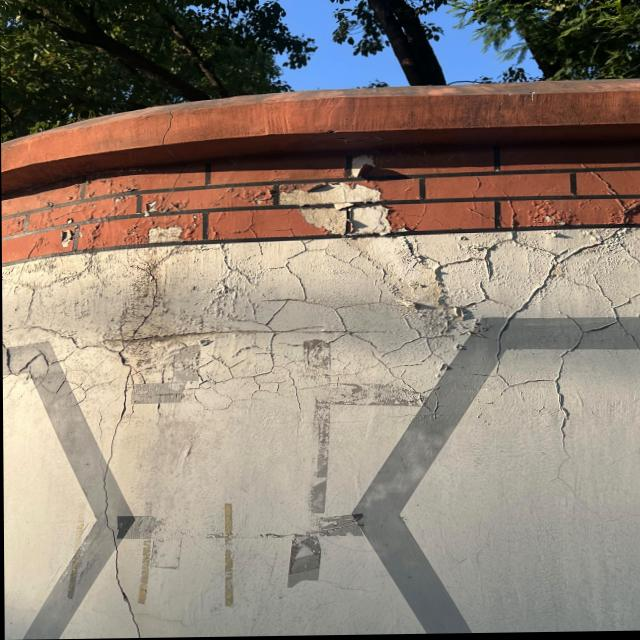crack: (4, 248, 431, 420), (430, 177, 636, 426), (100, 422, 155, 633)
spalling: (49, 166, 245, 254), (263, 156, 425, 246)
